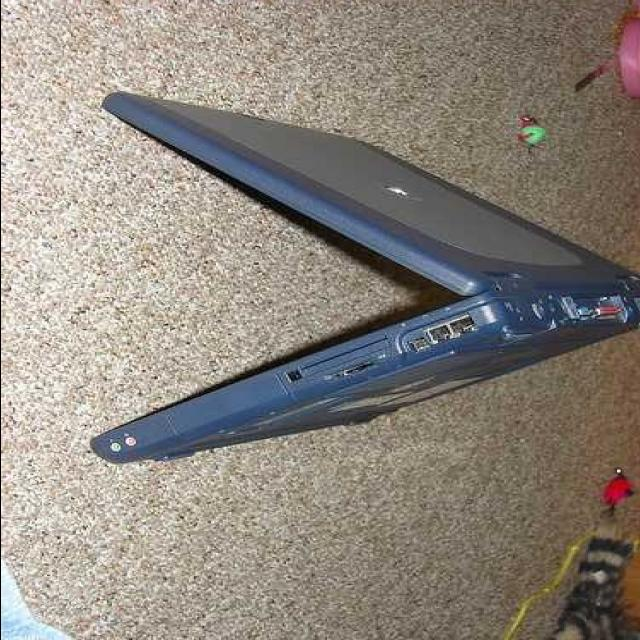laptop: (84, 50, 640, 487)
